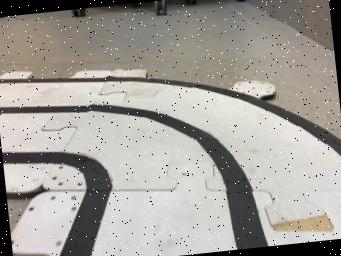street: (0, 75, 341, 256), (0, 75, 341, 256), (0, 75, 341, 256)
